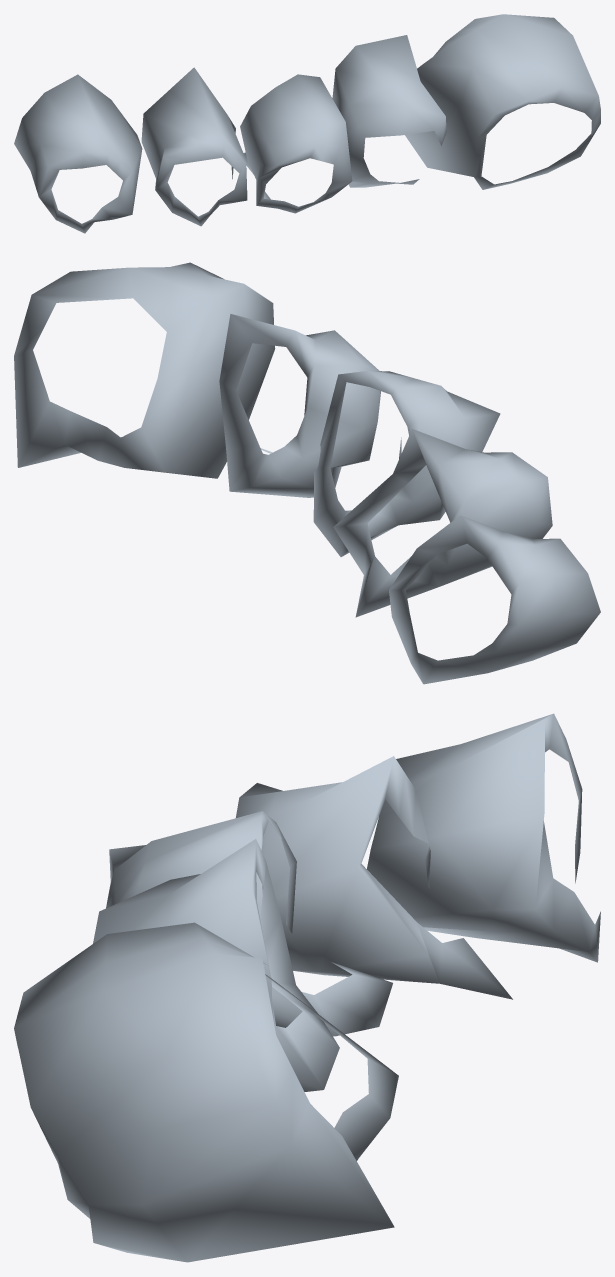
The model's file is articular-capsules-of-metatarsophalangeal-joints-r.glb.
3 renders of one model, top to bottom at view 1: azimuth 30°, elevation 25°; view 2: azimuth 150°, elevation 25°; view 3: azimuth 270°, elevation 25°, orthographic. The views are drawn at different scales.
Parts seen in each view (by area): view 1: Articular capsules of metatarsophalangeal joints.r; view 2: Articular capsules of metatarsophalangeal joints.r; view 3: Articular capsules of metatarsophalangeal joints.r.
Boxes of the visible parts, left/top/right/bottom form: Articular capsules of metatarsophalangeal joints.r: left=14, top=14, right=600, bottom=233; Articular capsules of metatarsophalangeal joints.r: left=14, top=262, right=600, bottom=684; Articular capsules of metatarsophalangeal joints.r: left=14, top=713, right=600, bottom=1262.
Bounding box in the file's own units: 0.0827 × 0.0274 × 0.0463.
